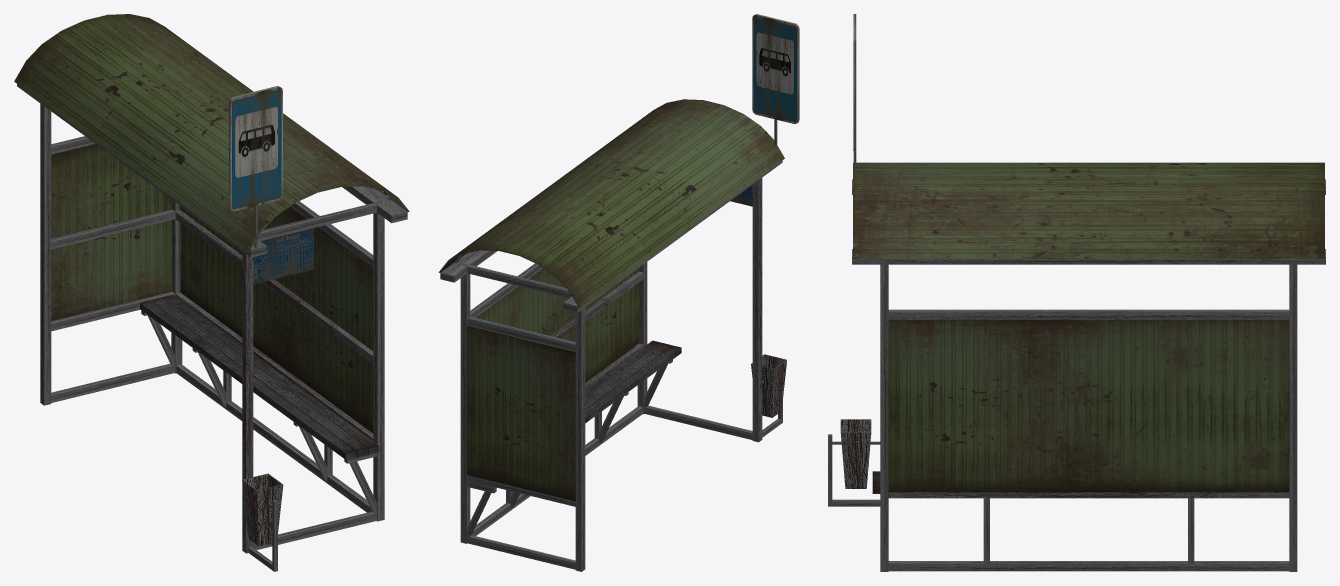
File: bus-stop-size-2.glb
3 renders of one model, left to right at view 1: azimuth 30°, elevation 25°; view 2: azimuth 150°, elevation 25°; view 3: azimuth 270°, elevation 25°, orthographic. The views are drawn at different scales.
Parts seen in each view (by area): view 1: Bus stop; view 2: Bus stop; view 3: Bus stop.
Part boxes in pixels (x1=…): Bus stop: x1=14, y1=14, x2=409, y2=571; Bus stop: x1=438, y1=14, x2=799, y2=571; Bus stop: x1=828, y1=14, x2=1325, y2=571.
Size of the model in its own units: 1.23 by 3.09 by 2.92.
Materials: 1 (1 with a texture image).
